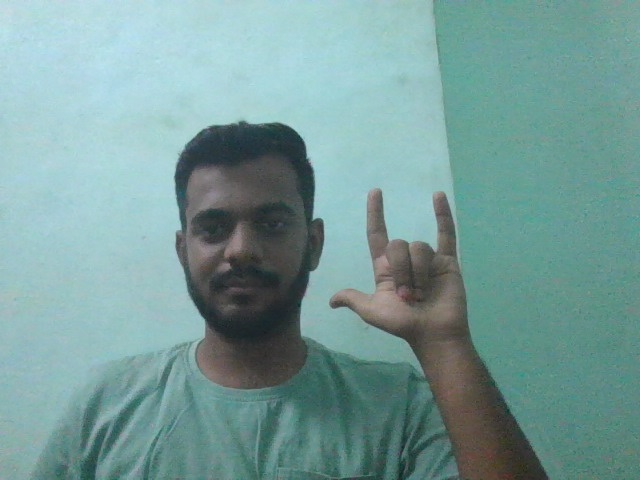iloveyou: (318, 185, 507, 364)
